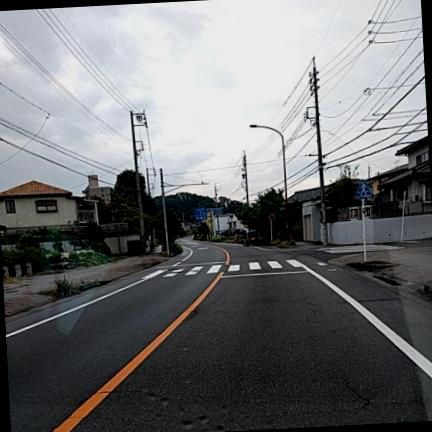Road: (5, 242, 431, 431)
